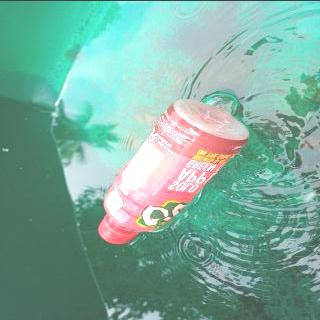bottle: (95, 95, 254, 245)
